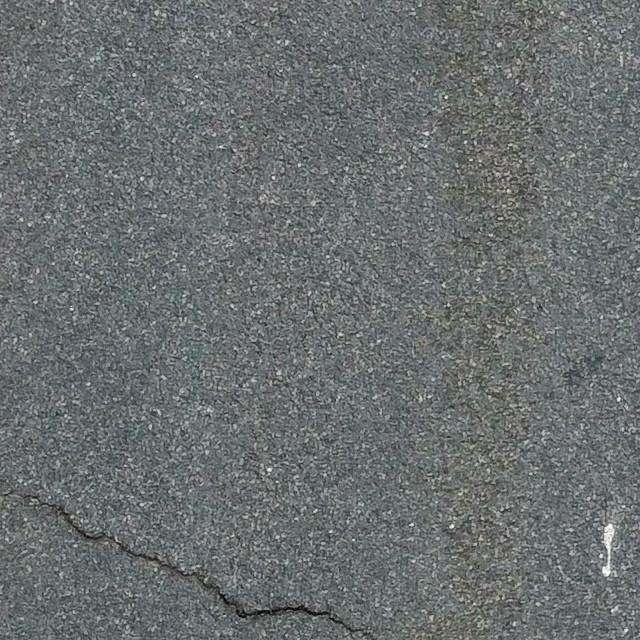TransverseCrack: (26, 493, 376, 640)
